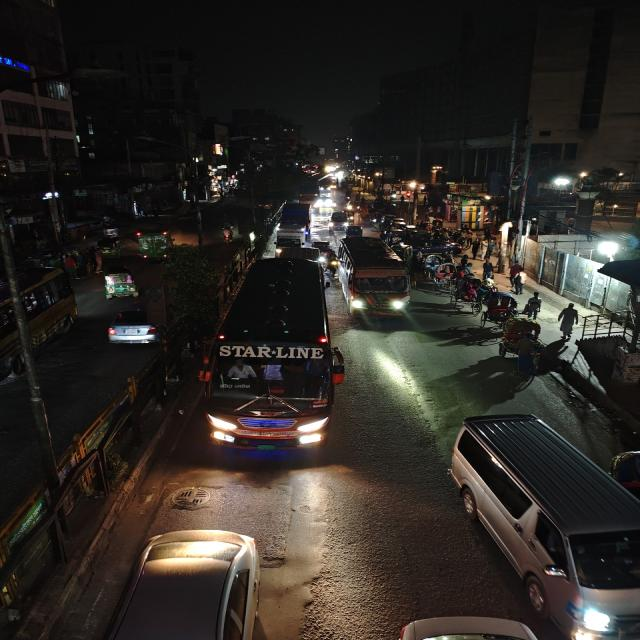bus: (210, 255, 338, 455), (0, 265, 77, 385), (336, 235, 414, 318)
car: (444, 408, 639, 640), (107, 528, 272, 640), (384, 612, 590, 640), (105, 300, 163, 348), (328, 210, 353, 230)
cng: (99, 266, 140, 300), (95, 238, 124, 256), (344, 225, 364, 237)
motorcycle: (219, 224, 235, 245)
pedestrian: (556, 301, 581, 338), (516, 334, 537, 375), (507, 259, 527, 294), (523, 293, 543, 321), (480, 257, 497, 283)
rickshaw: (479, 291, 516, 327), (450, 278, 484, 314)
truck: (273, 204, 313, 248), (132, 226, 174, 261)
